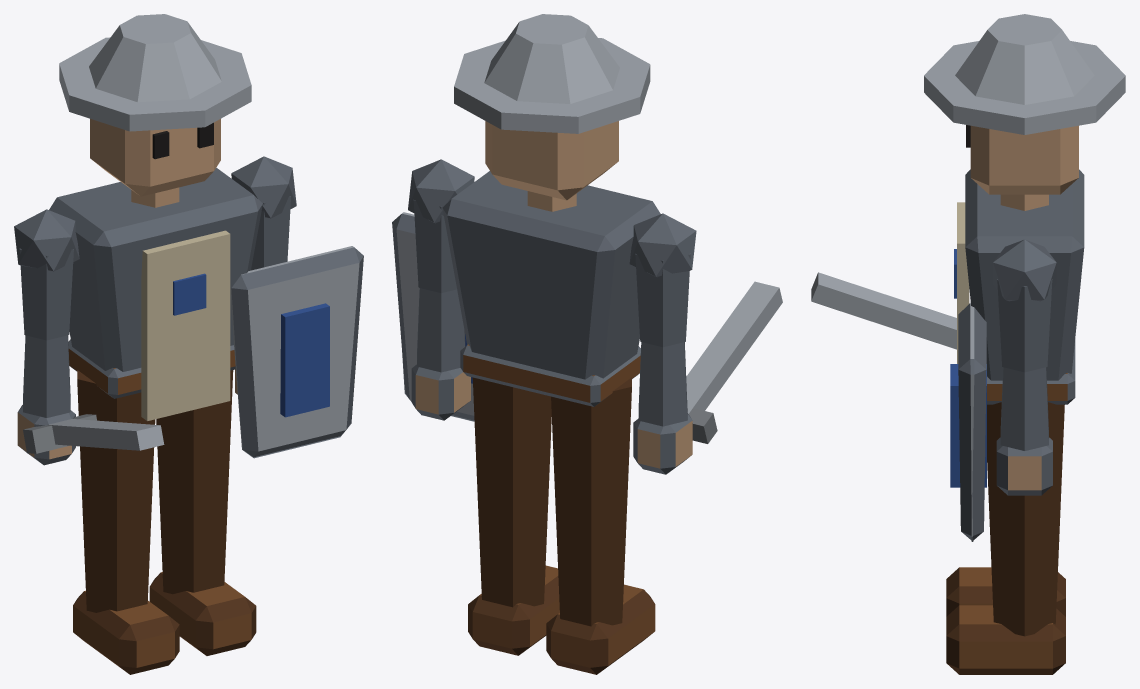
The model's file is hill_squire.glb.
3 views of the same model, side by side, from view 1: azimuth 30°, elevation 25°; view 2: azimuth 150°, elevation 25°; view 3: azimuth 270°, elevation 25° (orthographic). The views are drawn at different scales.
Parts seen in each view (by area): view 1: torso, arm_l, head, leg_r, leg_l, arm_r; view 2: torso, head, leg_r, leg_l, arm_r, arm_l; view 3: head, arm_l, leg_l, torso, arm_r, leg_r.
Part boxes in pixels (bbox=[...]): torso: bbox=[49, 168, 262, 420]; arm_l: bbox=[230, 156, 363, 458]; head: bbox=[59, 14, 251, 196]; leg_r: bbox=[73, 370, 179, 674]; leg_l: bbox=[149, 370, 256, 655]; arm_r: bbox=[14, 209, 164, 465]; torso: bbox=[442, 171, 660, 406]; head: bbox=[454, 14, 650, 200]; leg_r: bbox=[546, 377, 655, 674]; leg_l: bbox=[468, 377, 559, 655]; arm_r: bbox=[629, 213, 782, 474]; arm_l: bbox=[392, 159, 474, 421]; head: bbox=[924, 14, 1125, 194]; arm_l: bbox=[950, 239, 1056, 541]; leg_l: bbox=[946, 402, 1065, 674]; torso: bbox=[954, 169, 1084, 404]; arm_r: bbox=[811, 272, 956, 349]; leg_r: bbox=[946, 567, 1065, 616].
Size of the model in its own units: 0.9286 by 1.67 by 0.7739.
